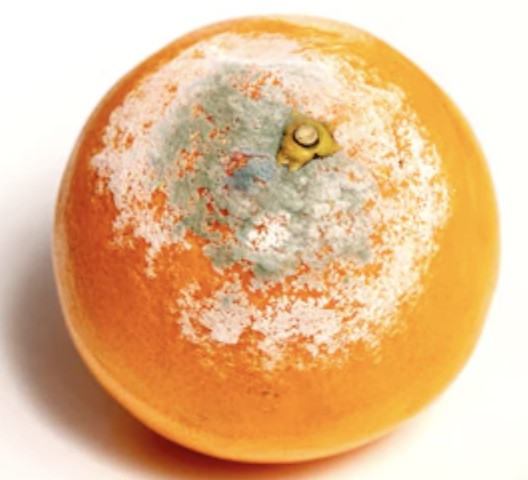rotten_orange: (52, 15, 501, 461)
